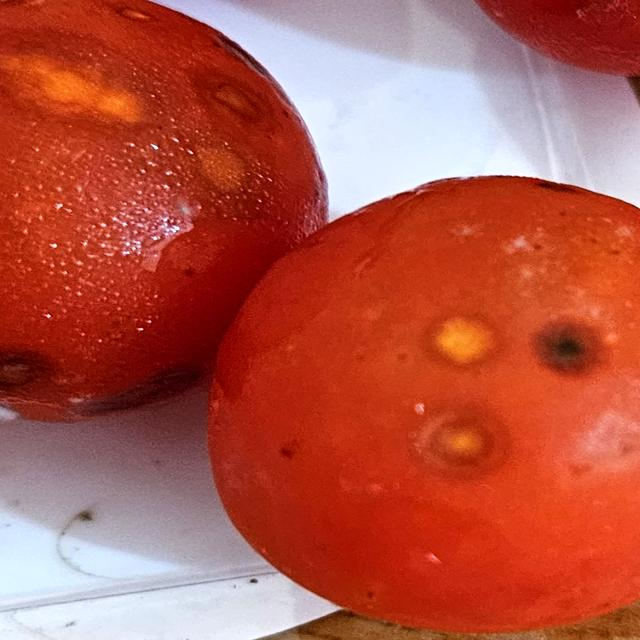rot_lvl1: (2, 46, 157, 141), (418, 412, 509, 478), (188, 137, 261, 202), (424, 308, 499, 365), (200, 73, 265, 127)
rot_lvl2: (535, 317, 601, 378), (0, 339, 49, 397)
